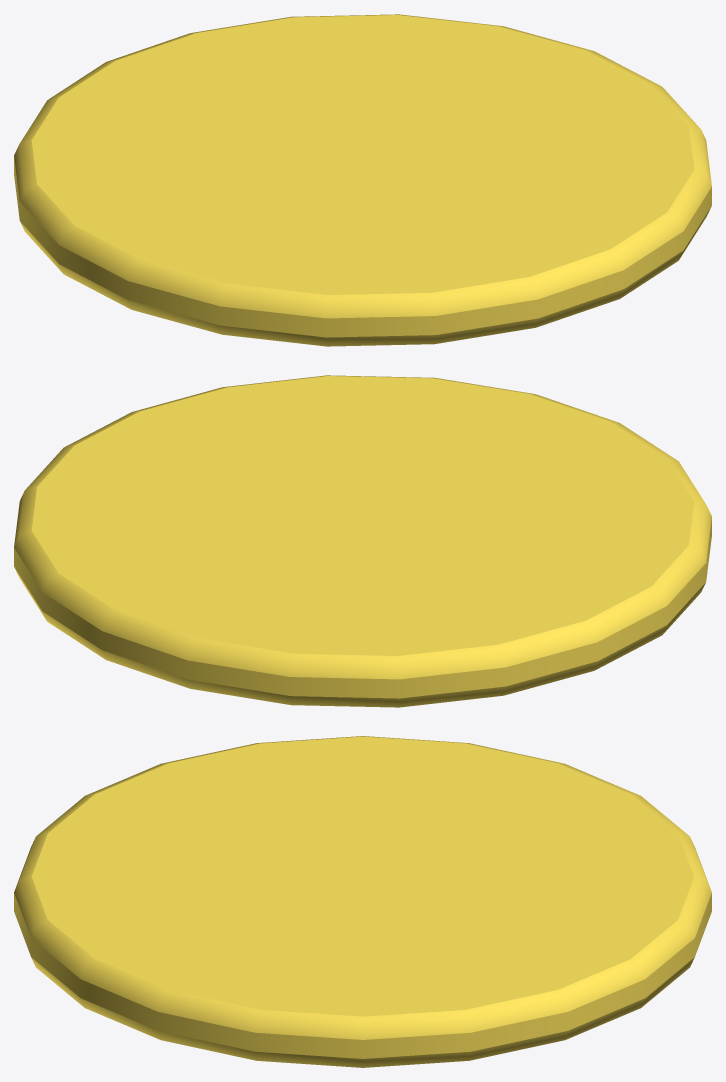
File: coin.glb
The picture shows the model from 3 angles, top to bottom: view 1: azimuth 30°, elevation 25°; view 2: azimuth 150°, elevation 25°; view 3: azimuth 270°, elevation 25°; orthographic projection.
Visible parts, largest first — view 1: coin; view 2: coin; view 3: coin.
Boxes of the visible parts, x1,y1,x2,y2 form: coin: [14, 14, 711, 346]; coin: [14, 375, 711, 707]; coin: [14, 736, 711, 1067].
Bounding box in the file's own units: 0.44 × 0.0352 × 0.44.
